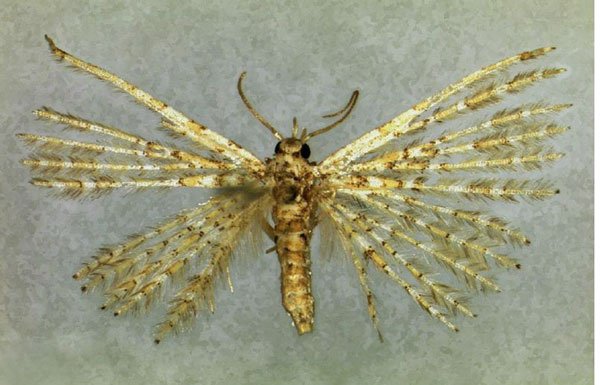Alucitidae: (18, 26, 580, 351)
moth: (16, 24, 578, 349)
